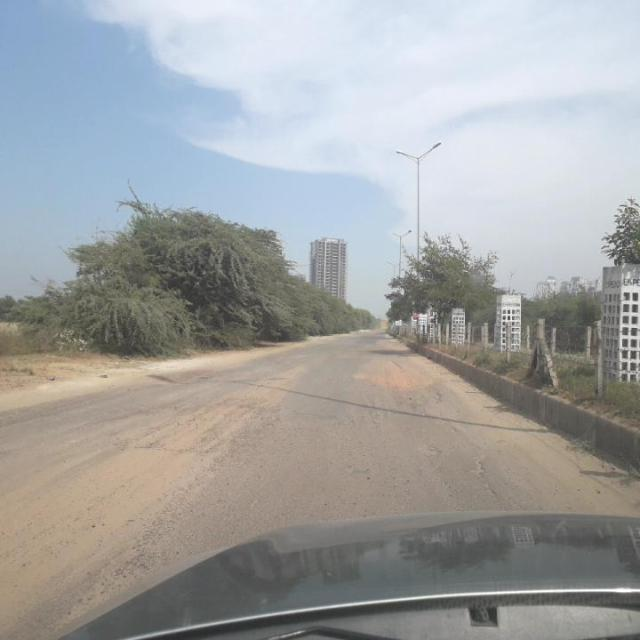Surface Erosion: (192, 285, 515, 484)
